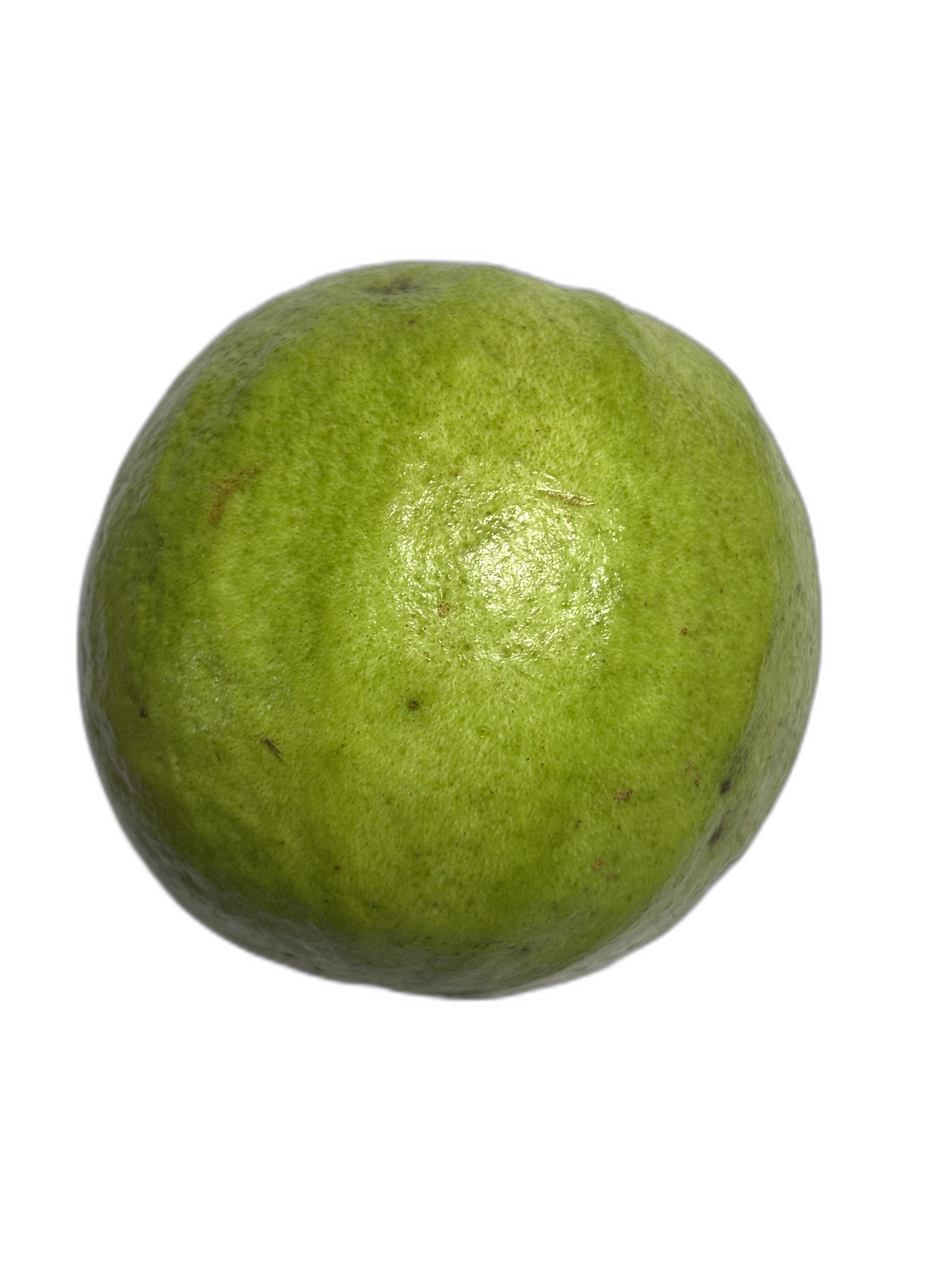guava: (179, 244, 924, 1131)
